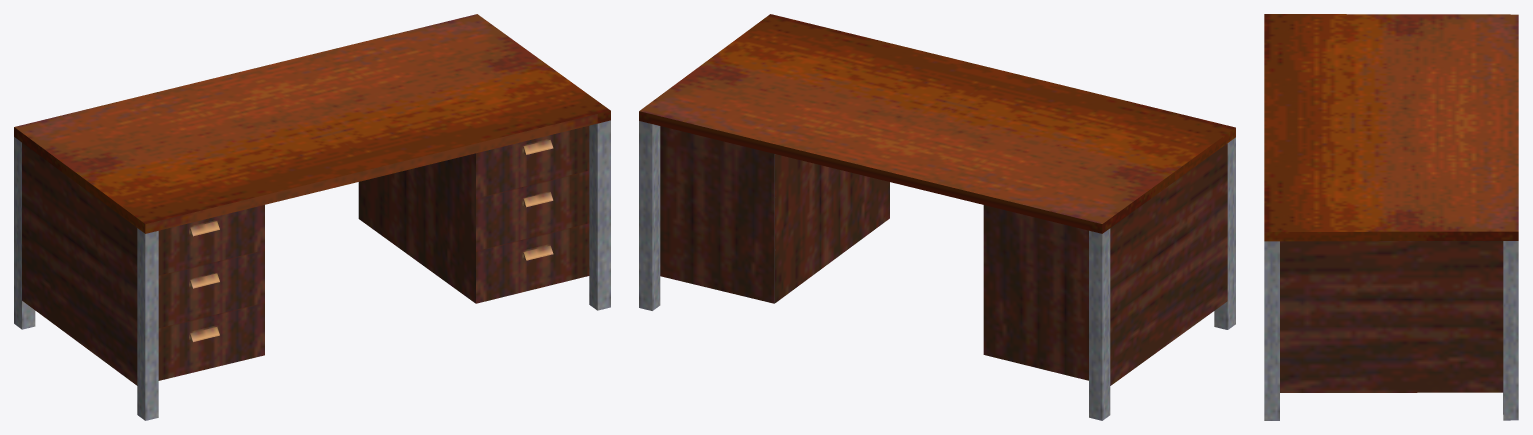
The model's file is desk1.obj.
The picture shows the model from 3 angles, left to right: view 1: azimuth 30°, elevation 25°; view 2: azimuth 150°, elevation 25°; view 3: azimuth 270°, elevation 25°; orthographic projection. The views are drawn at different scales.
Parts seen in each view (by area): view 1: desk1; view 2: desk1; view 3: desk1.
Part boxes in pixels (box(x1,y1,x2,y2)): desk1: box(14, 14, 610, 420); desk1: box(639, 14, 1235, 420); desk1: box(1264, 14, 1518, 420).
Bounding box in the file's own units: 2.21 × 0.8911 × 1.09.
